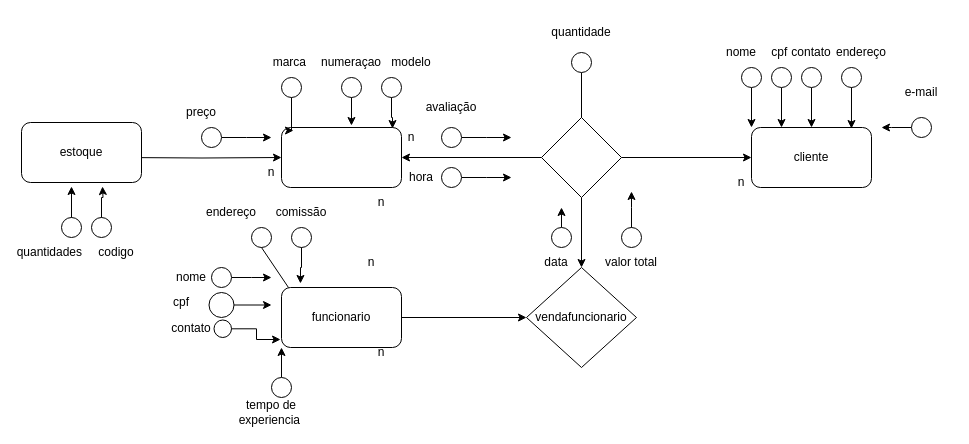
This 969x444 diagram has some shape labels left out. Here are the shapes that lost their labels. From the top down, the centre of each, then its label:
At (341,157): "calçados".
At (581,157): "venda".
